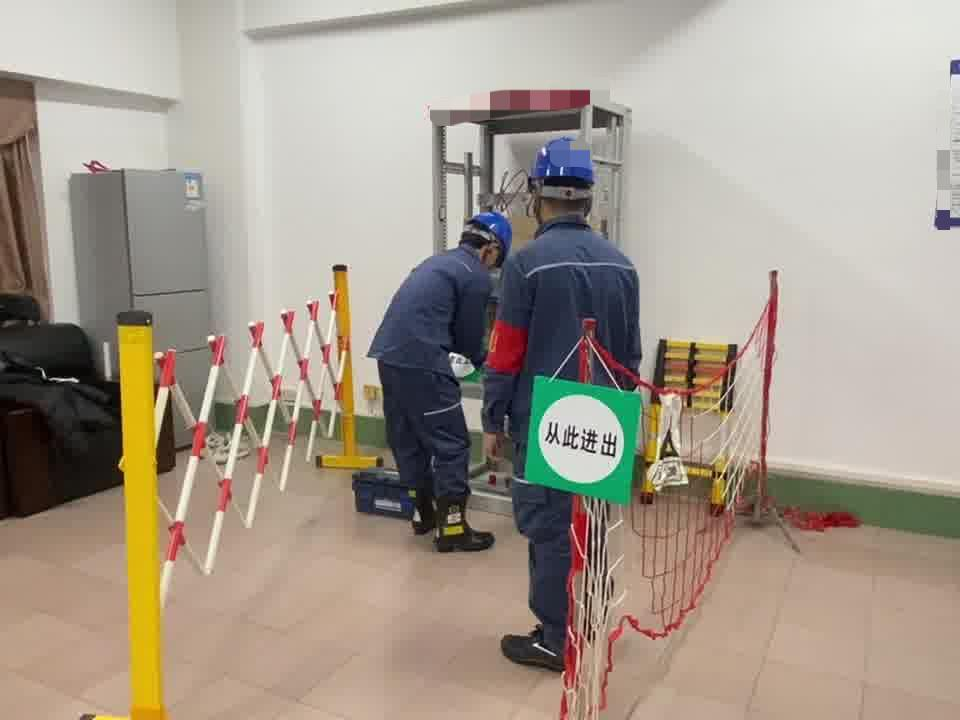halt: (529, 138, 601, 225), (464, 213, 516, 270)
